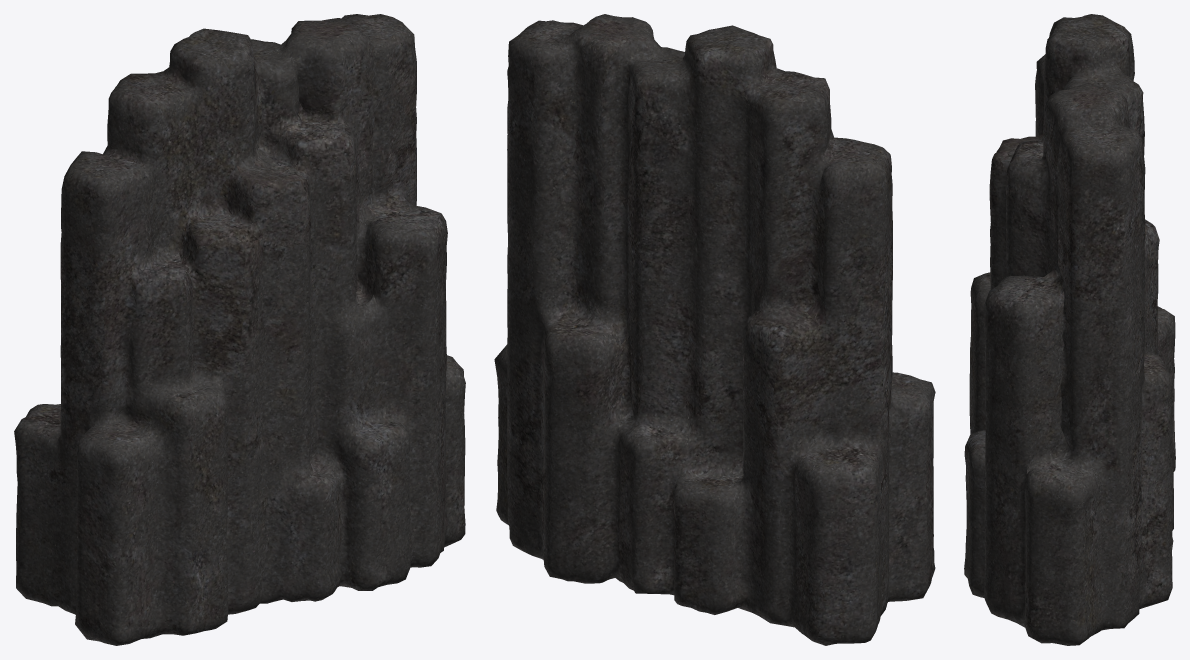
Rendered from stone.glb.
3 views of the same model, side by side, from view 1: azimuth 30°, elevation 25°; view 2: azimuth 150°, elevation 25°; view 3: azimuth 270°, elevation 25° (orthographic). The views are drawn at different scales.
Visible parts, largest first — view 1: CaveCrystal01; view 2: CaveCrystal01; view 3: CaveCrystal01.
Part boxes in pixels (x1,y1,x2,y2): CaveCrystal01: [14, 14, 465, 645]; CaveCrystal01: [494, 14, 935, 645]; CaveCrystal01: [964, 14, 1175, 645].
Bounding box in the file's own units: 6.49 × 8.16 × 3.04.
1 material, 1 textured.
